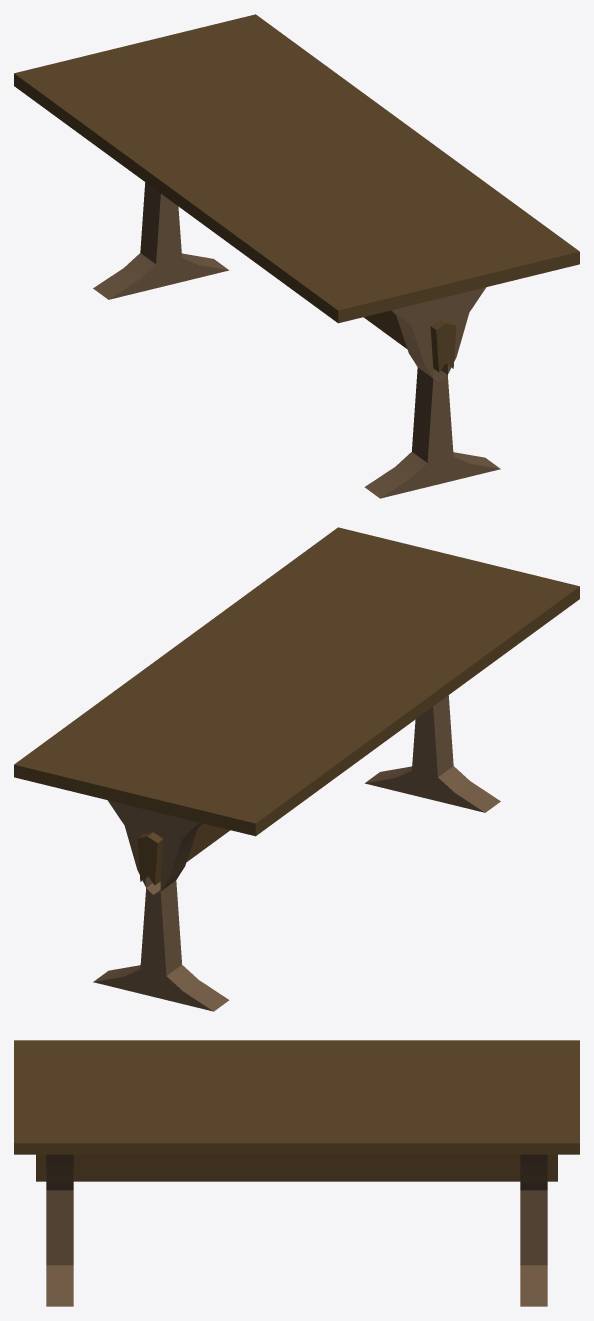
Rendered from table.fbx.
3 views of the same model, one above another, from view 1: azimuth 30°, elevation 25°; view 2: azimuth 150°, elevation 25°; view 3: azimuth 270°, elevation 25° (orthographic). The views are drawn at different scales.
Visible parts, largest first — view 1: table; view 2: table; view 3: table.
Part boxes in pixels (left/top/right/bottom): table: left=14, top=14, right=579, bottom=498; table: left=14, top=527, right=579, bottom=1011; table: left=14, top=1040, right=579, bottom=1306.
Size of the model in its own units: 237 by 203 by 550.
